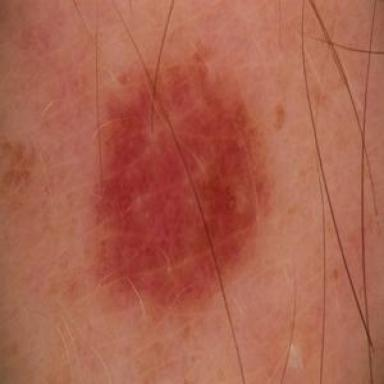Melanoma: (92, 40, 270, 309)
